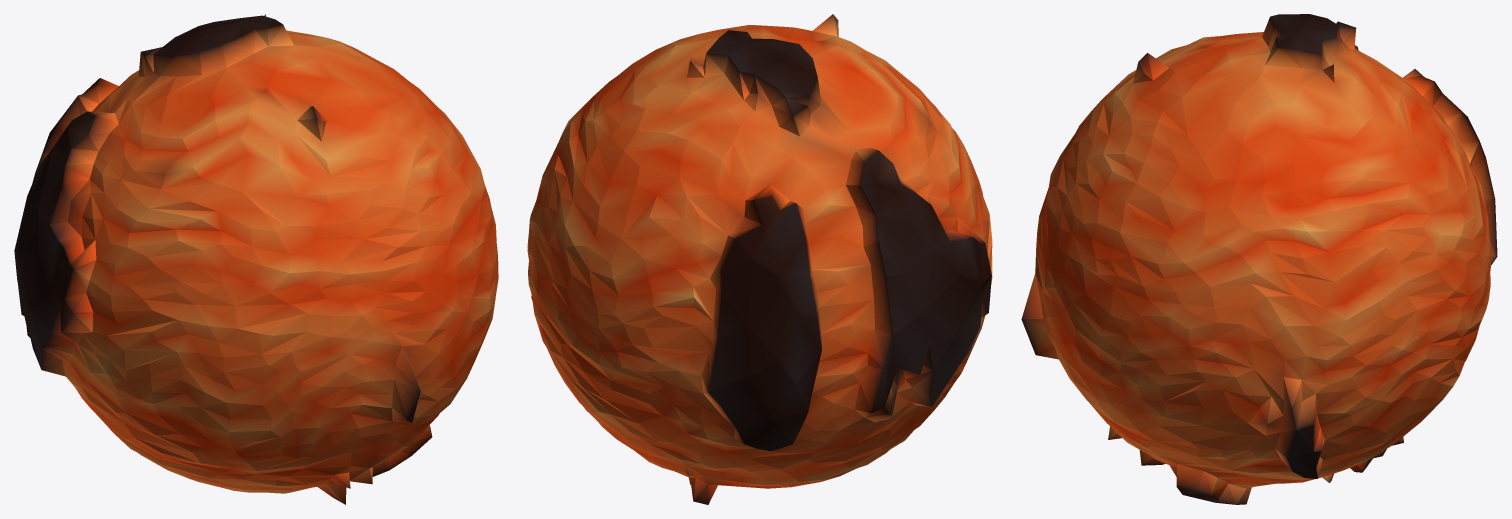
The model's file is barren_28.fbx.
3 views of the same model, side by side, from view 1: azimuth 30°, elevation 25°; view 2: azimuth 150°, elevation 25°; view 3: azimuth 270°, elevation 25° (orthographic). The views are drawn at different scales.
Visible parts, largest first — view 1: filecache1; view 2: filecache1; view 3: filecache1.
Boxes of the visible parts, x1,y1,x2,y2 form: filecache1: (14, 14, 498, 504); filecache1: (527, 14, 992, 504); filecache1: (1021, 14, 1497, 504).
Size of the model in its own units: 2.15 by 2.15 by 2.11.
